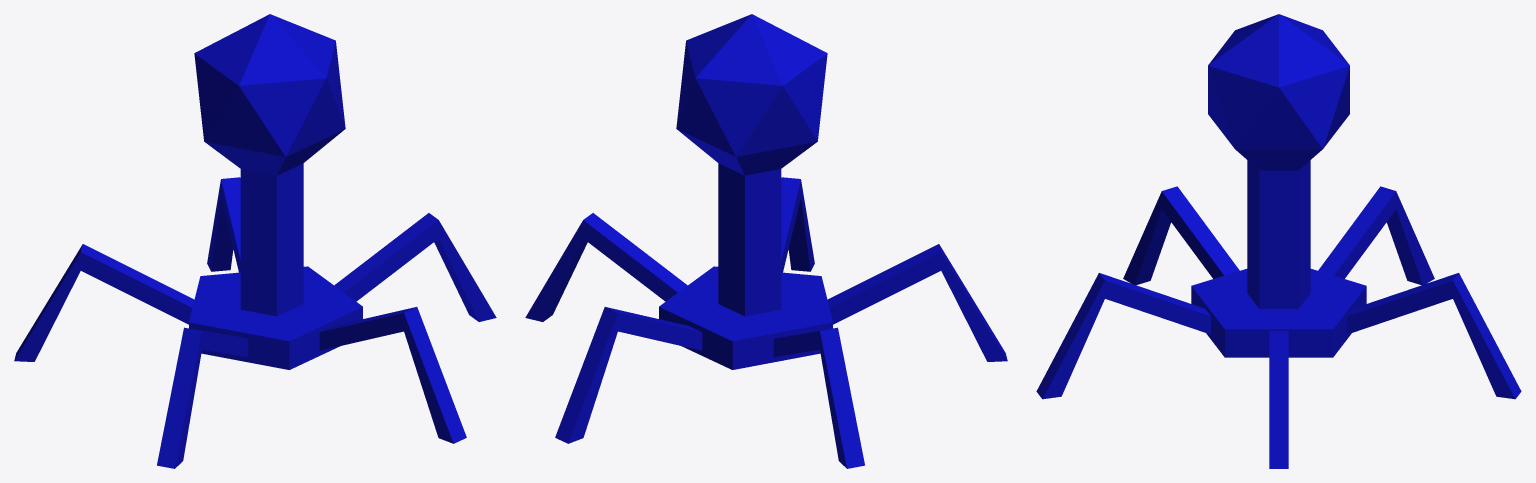
File: virus_shooter.obj
3 views of the same model, side by side, from view 1: azimuth 30°, elevation 25°; view 2: azimuth 150°, elevation 25°; view 3: azimuth 270°, elevation 25° (orthographic).
Visible parts, largest first — view 1: Virus_Shooter_Icosphere.007; view 2: Virus_Shooter_Icosphere.007; view 3: Virus_Shooter_Icosphere.007.
Boxes of the visible parts, bbox=[...] form: Virus_Shooter_Icosphere.007: bbox=[14, 14, 496, 468]; Virus_Shooter_Icosphere.007: bbox=[525, 14, 1007, 468]; Virus_Shooter_Icosphere.007: bbox=[1036, 14, 1521, 468].
Bounding box in the file's own units: 8.27 × 6.9 × 8.7.
